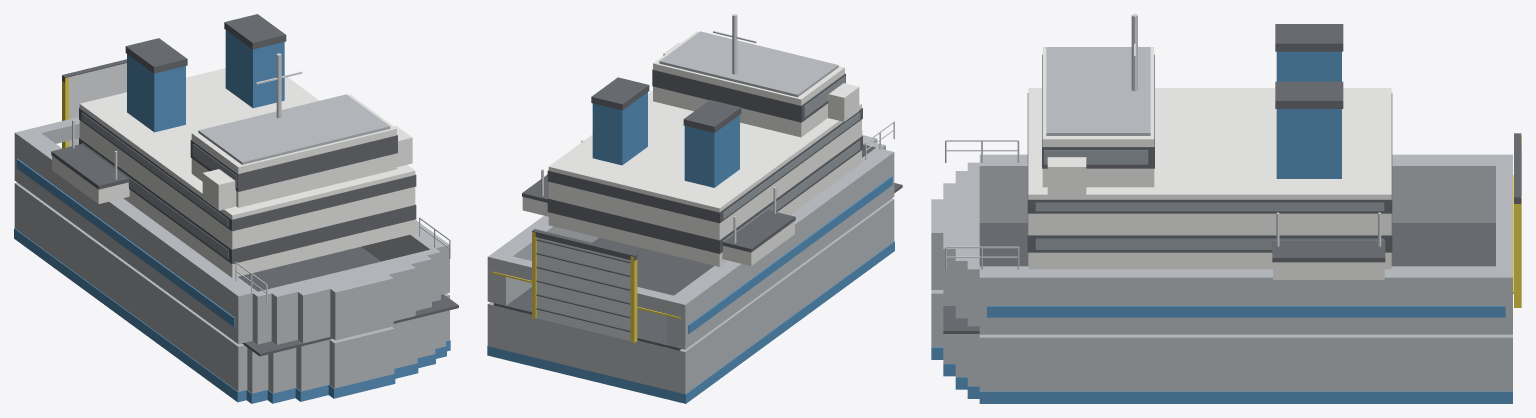
Rendered from roro-ferry-blue.glb.
3 renders of one model, left to right at view 1: azimuth 30°, elevation 25°; view 2: azimuth 150°, elevation 25°; view 3: azimuth 270°, elevation 25°, orthographic. The views are drawn at different scales.
Visible parts, largest first — view 1: ferry-terminal-and-harbour-crossing-ro-ro-ferry-stern-sectio (×6), stern-ramp/steel; view 2: ferry-terminal-and-harbour-crossing-ro-ro-ferry-stern-sectio (×6), stern-ramp/steel, stern-ramp/yellow (×2), stern-ramp/charcoal; view 3: ferry-terminal-and-harbour-crossing-ro-ro-ferry-stern-sectio (×6), stern-ramp/yellow, stern-ramp/charcoal.
Boxes of the visible parts, x1,y1,x2,y2 form: ferry-terminal-and-harbour-crossing-ro-ro-ferry-stern-sectio (×6): (14, 14, 458, 403); stern-ramp/steel: (69, 63, 126, 146); ferry-terminal-and-harbour-crossing-ro-ro-ferry-stern-sectio (×6): (487, 14, 902, 403); stern-ramp/steel: (536, 237, 630, 340); stern-ramp/yellow (×2): (532, 232, 637, 342); stern-ramp/charcoal: (532, 229, 637, 260); ferry-terminal-and-harbour-crossing-ro-ro-ferry-stern-sectio (×6): (931, 14, 1512, 403); stern-ramp/yellow: (1514, 196, 1521, 307); stern-ramp/charcoal: (1514, 133, 1521, 203).
Bounding box in the file's own units: 13.94 × 14.88 × 24.36.
